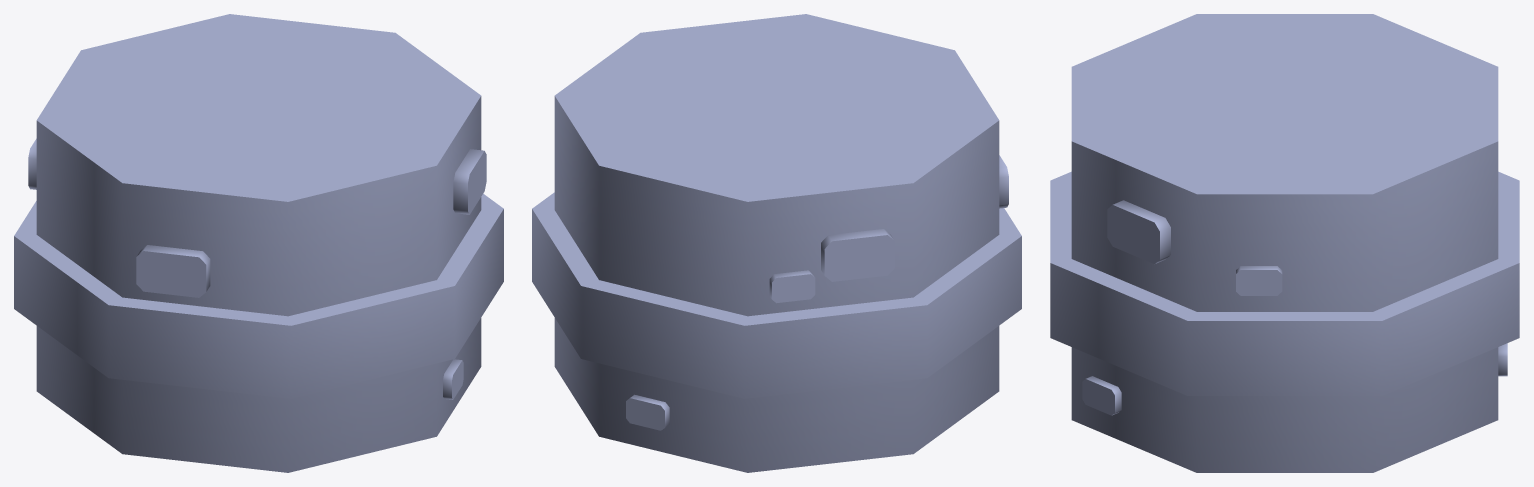
Rendered from pk_tower-middle.glb.
3 views of the same model, side by side, from view 1: azimuth 30°, elevation 25°; view 2: azimuth 150°, elevation 25°; view 3: azimuth 270°, elevation 25° (orthographic). The views are drawn at different scales.
Visible parts, largest first — view 1: tower-middle; view 2: tower-middle; view 3: tower-middle.
Boxes of the visible parts, x1,y1,x2,y2 form: tower-middle: (14, 14, 503, 472); tower-middle: (532, 14, 1021, 472); tower-middle: (1050, 14, 1519, 472).
Bounding box in the file's own units: 3.05 × 2 × 3.05.
Materials: 1 (1 with a texture image).
